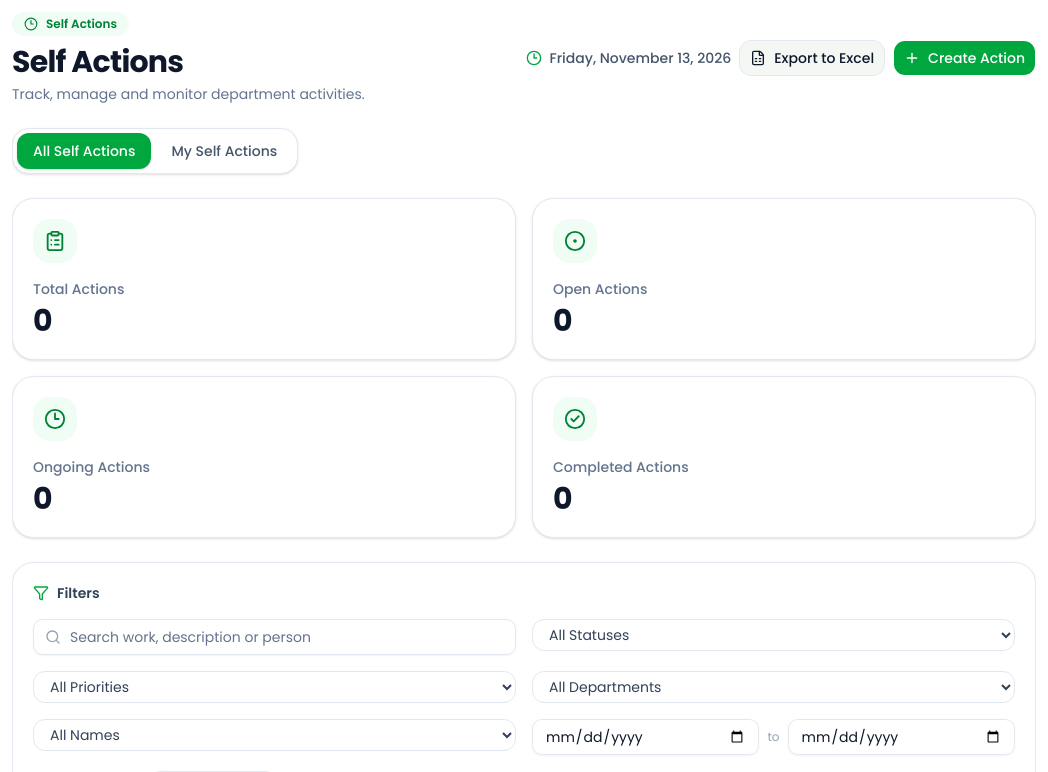
Test: Self Actions export › reports a failed export without breaking the page
The width and height of the screenshot is (1048, 772).
Click the button "Export to Excel" at (812, 58), box [739,40,885,76]
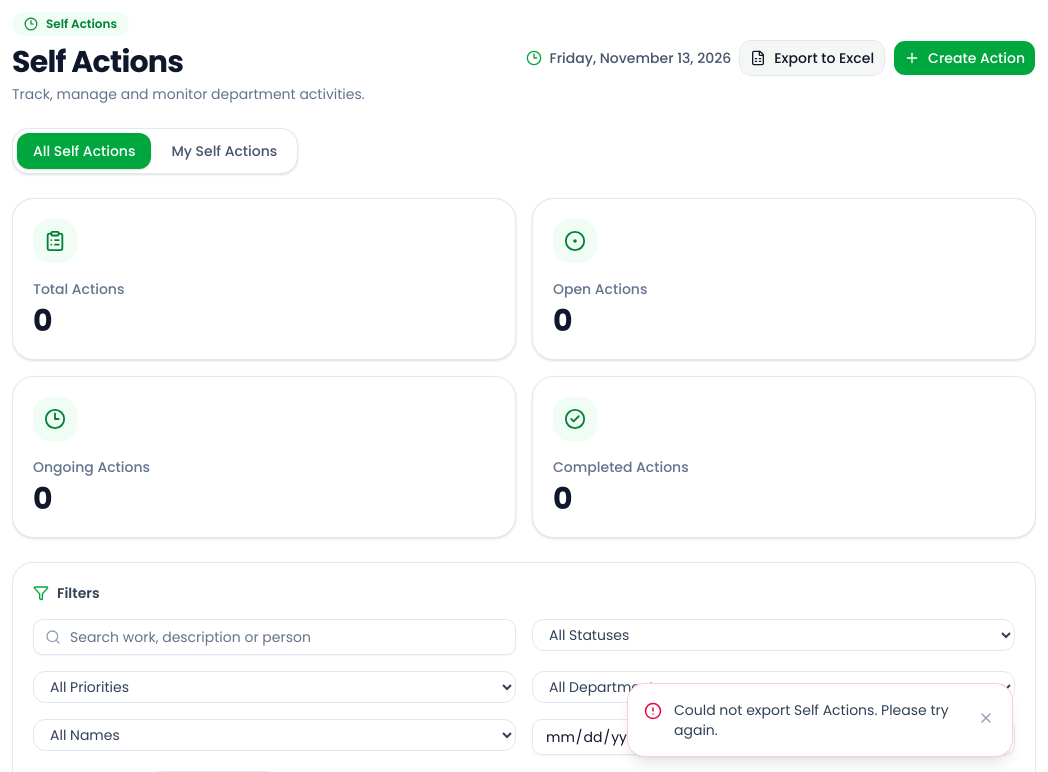
Expected: the text "Could not export Self Actions. Please try again." is shown, [674,700,964,740]
